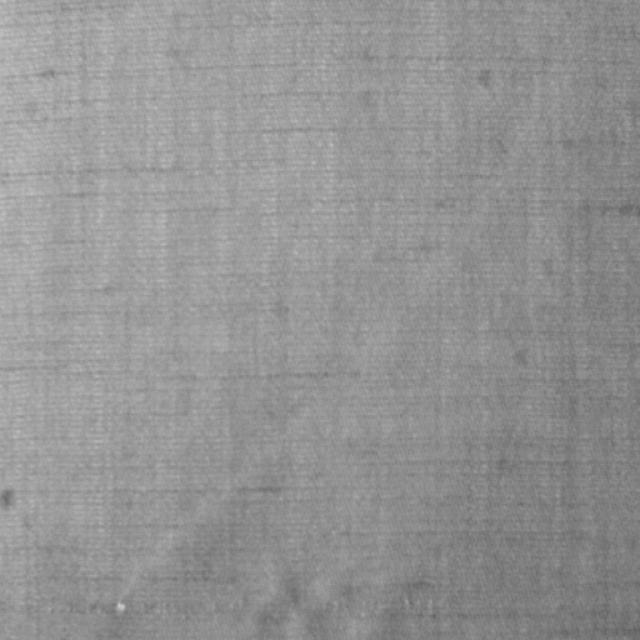hole: (115, 598, 125, 614)
